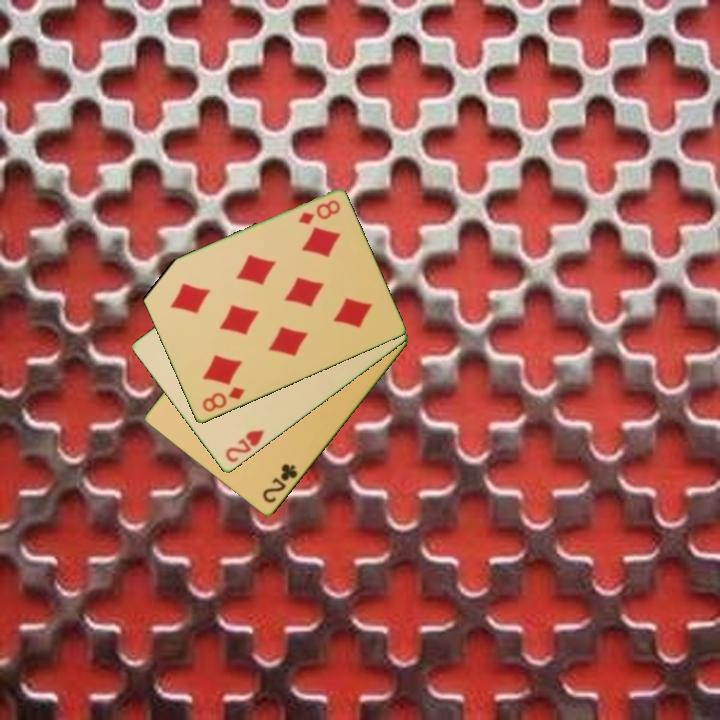2c: (259, 461, 301, 506)
2h: (222, 427, 267, 466)
8d: (199, 383, 248, 415), (295, 197, 343, 228)
